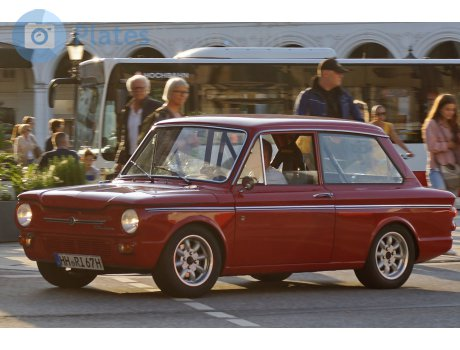License Plates: (59, 252, 103, 266)
